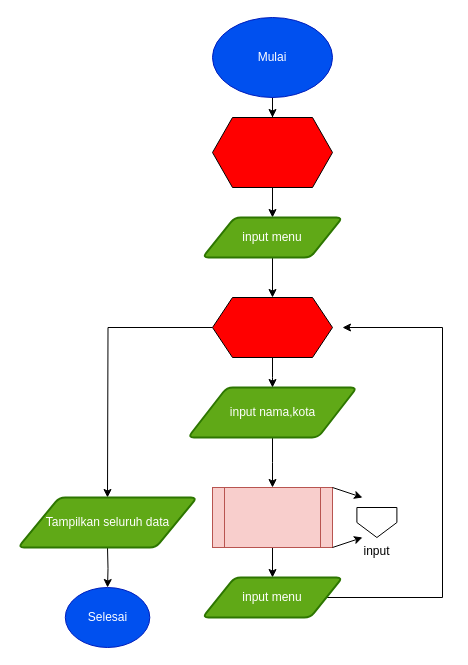
The diagram is 468 pixels wide and 665 high, and some of its shapes have lost their labels. Each missing label, with the box of its shape:
input(nama,kota): (212, 486, 332, 548)
int menu; char nama[20]; char kota[20];: (212, 116, 332, 188)
while(menu==1): (212, 296, 332, 358)
